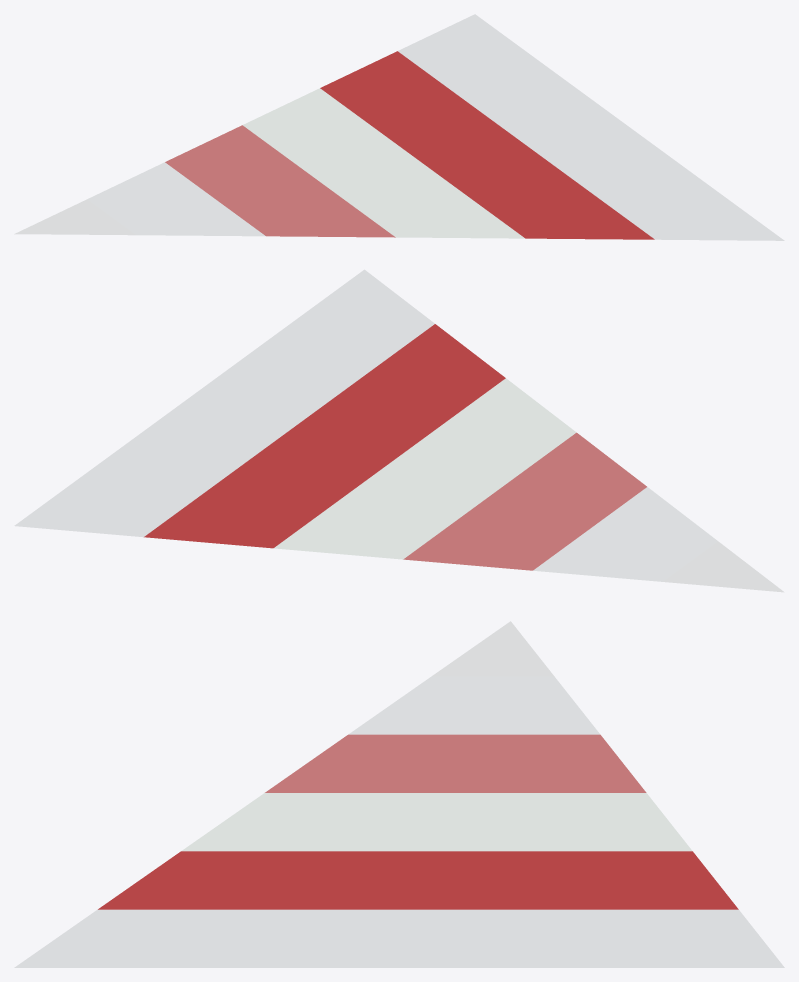
File: mp-3180-geode.glb
The picture shows the model from 3 angles, top to bottom: view 1: azimuth 30°, elevation 25°; view 2: azimuth 150°, elevation 25°; view 3: azimuth 270°, elevation 25°; orthographic projection. The views are drawn at different scales.
Parts seen in each view (by area): view 1: Node; view 2: Node; view 3: Node.
Boxes of the visible parts, left/top/right/bottom form: Node: left=14, top=14, right=784, bottom=240; Node: left=14, top=269, right=784, bottom=592; Node: left=14, top=621, right=784, bottom=967.
Bounding box in the file's own units: 0.2608 × 0 × 0.245.
1 material, 1 textured.
